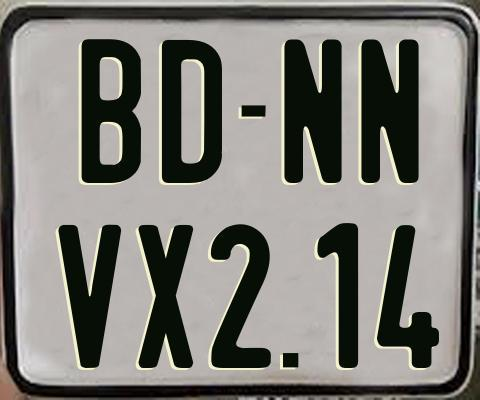1: (317, 222, 362, 367)
2: (208, 223, 274, 368)
4: (377, 223, 439, 366)
B: (82, 39, 147, 188)
D: (162, 40, 226, 184)
N: (361, 36, 425, 182), (284, 38, 342, 188)
V: (56, 224, 125, 370)
X: (138, 223, 197, 370)
